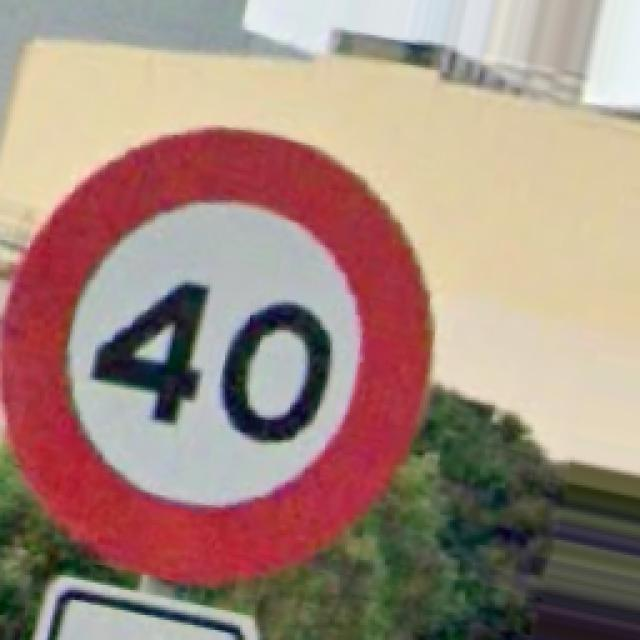Speed Limit -40-: (2, 128, 430, 582)
